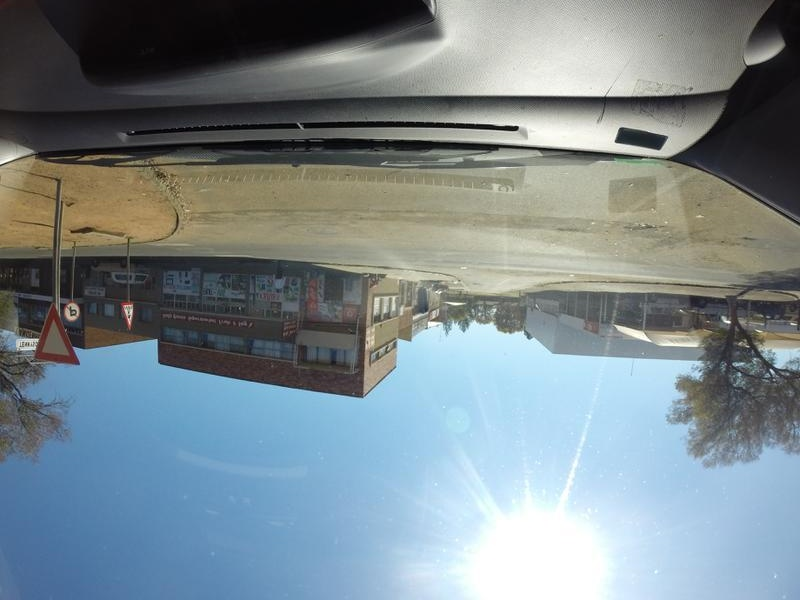pothole: (713, 226, 770, 254), (621, 213, 669, 238), (555, 220, 607, 240)
